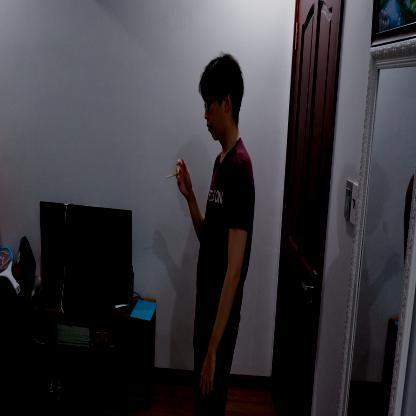cigarette: (165, 172, 177, 180)
person: (177, 50, 257, 415)
